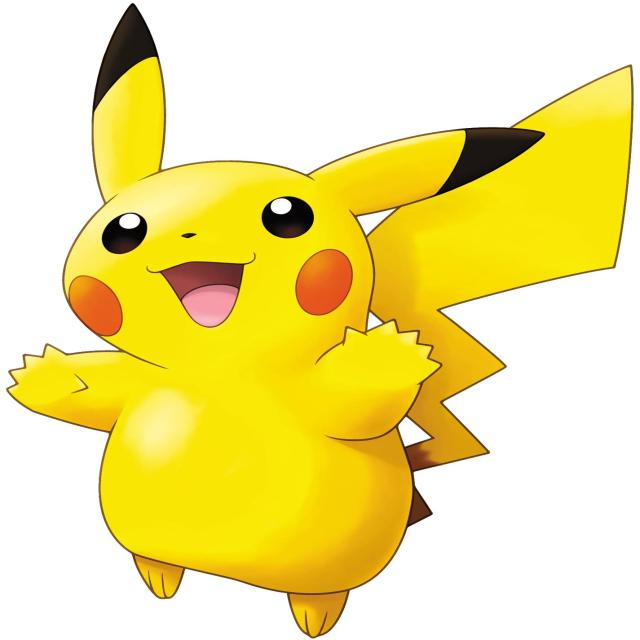pikachu: (8, 4, 629, 636)
